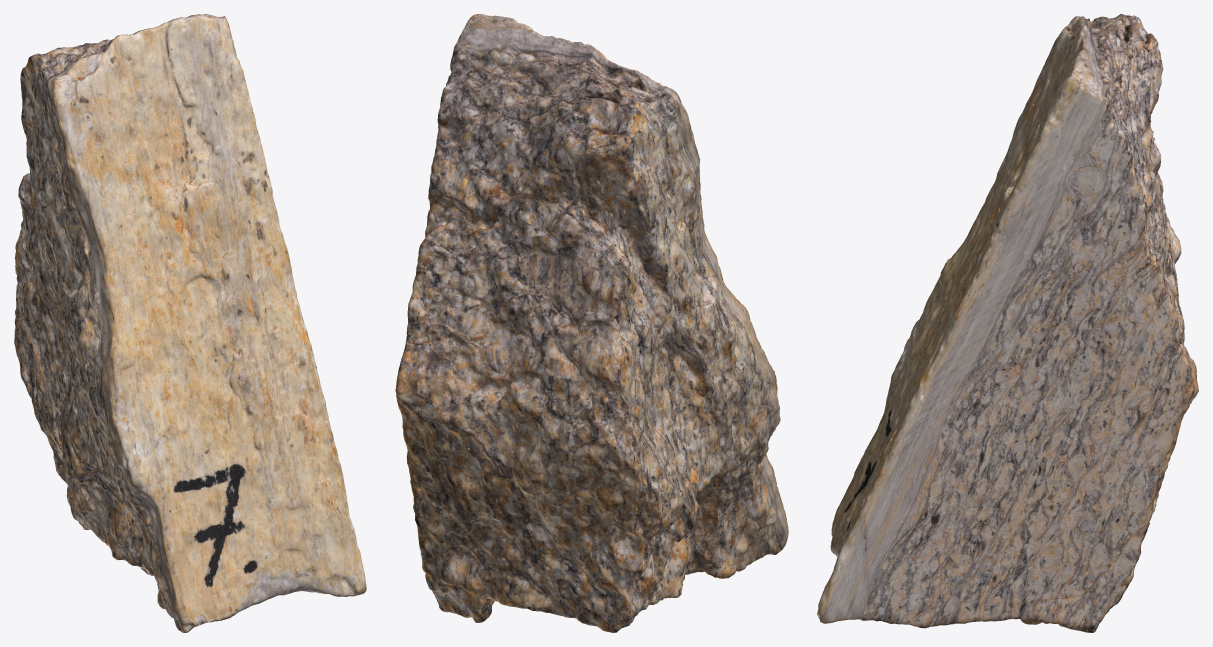
Rendered from 08 variants.glb.
3 views of the same model, side by side, from view 1: azimuth 30°, elevation 25°; view 2: azimuth 150°, elevation 25°; view 3: azimuth 270°, elevation 25° (orthographic). The views are drawn at different scales.
Parts seen in each view (by area): view 1: Metashape 100000 export; view 2: Metashape 100000 export; view 3: Metashape 100000 export.
Part boxes in pixels (x1=…): Metashape 100000 export: x1=14, y1=14, x2=366, y2=632; Metashape 100000 export: x1=395, y1=14, x2=788, y2=632; Metashape 100000 export: x1=817, y1=14, x2=1198, y2=632.
Bounding box in the file's own units: 0.4947 × 1.17 × 0.7348.
1 material, 1 textured.
